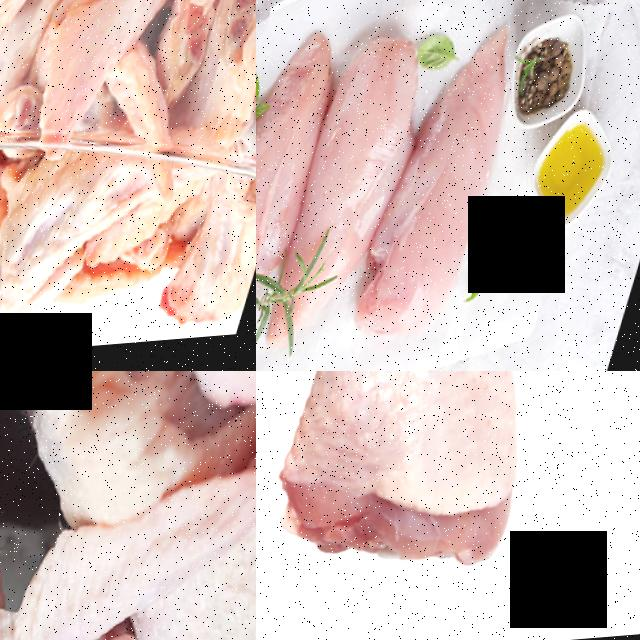chicken breast: (354, 11, 545, 371), (259, 7, 439, 371), (256, 33, 339, 350)
chicken thigh: (256, 371, 640, 618)
chicken wing: (0, 371, 123, 640)
